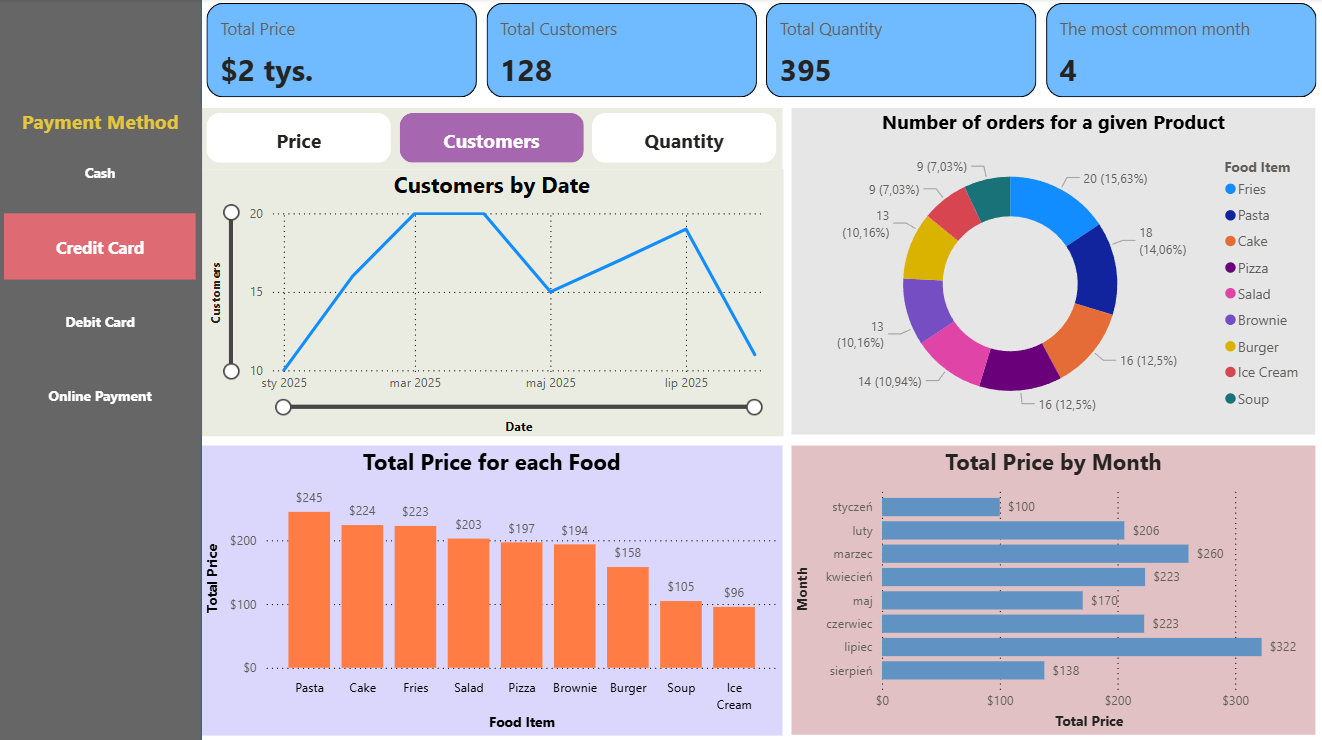

This screenshot's page, from the dashboard's own definition file:
{"tool":"powerbi","page":{"name":"Strona 1","canvas":[1280,720],"ordinal":0},"visuals":[{"type":"cardVisual","fields":{"Data":["_Measures.Total Price","_Measures.Total Customers","_Measures.Total Quantity","_Measures.The most common month"]},"box":[195.3,0,1084.7,101.2],"z":0},{"type":"lineChart","fields":{"Y":["_Measures.Total Quantity"],"Category":["restaurant_orders.Date.Odmiana.Hierarchia dat.Rok","restaurant_orders.Date.Odmiana.Hierarchia dat.Miesiąc"]},"box":[195.8,165.1,560.6,257.3],"z":1000},{"type":"advancedSlicerVisual","fields":{"Values":["Parametr.Parametr"]},"box":[195.8,106.2,560.6,58.9],"z":2000},{"type":"columnChart","title":"Total Price for each Food","fields":{"Y":["_Measures.Total Price"],"Category":["restaurant_orders.Food Item"]},"box":[195.8,431.4,560.6,280.3],"z":3000},{"type":"donutChart","title":"Number of orders for a given Product","fields":{"Y":["CountNonNull(restaurant_orders.Food Item)"],"Category":["restaurant_orders.Food Item"]},"box":[765.4,106.2,505.6,314.9],"z":4000},{"type":"shape","box":[0,0,195.8,720.6],"z":5000},{"type":"advancedSlicerVisual","fields":{"Values":["restaurant_orders.Payment Method"]},"box":[0,106.2,195.8,314.9],"z":6000},{"type":"barChart","title":"Total Price by Month","fields":{"Category":["restaurant_orders.Date.Odmiana.Hierarchia dat.Miesiąc"],"Y":["_Measures.Total Price"]},"box":[765.4,431.4,505.6,279],"z":7000}]}

Visuals, with their boxes in screenshot pixels (x1, y1, x2, y2), scaled from the page's 1280x720 canvas onto the 1322x740 screenshot:
cardVisual - _Measures.Total Price x _Measures.Total Customers: bbox=(202, 0, 1321, 104)
lineChart - _Measures.Total Quantity x restaurant_orders.Date.Odmiana.Hierarchia dat.Rok: bbox=(202, 170, 781, 434)
advancedSlicerVisual - Parametr.Parametr: bbox=(202, 109, 781, 170)
"Total Price for each Food" columnChart: bbox=(202, 443, 781, 731)
"Number of orders for a given Product" donutChart: bbox=(791, 109, 1313, 433)
shape: bbox=(0, 0, 202, 739)
advancedSlicerVisual - restaurant_orders.Payment Method: bbox=(0, 109, 202, 433)
"Total Price by Month" barChart: bbox=(791, 443, 1313, 730)
